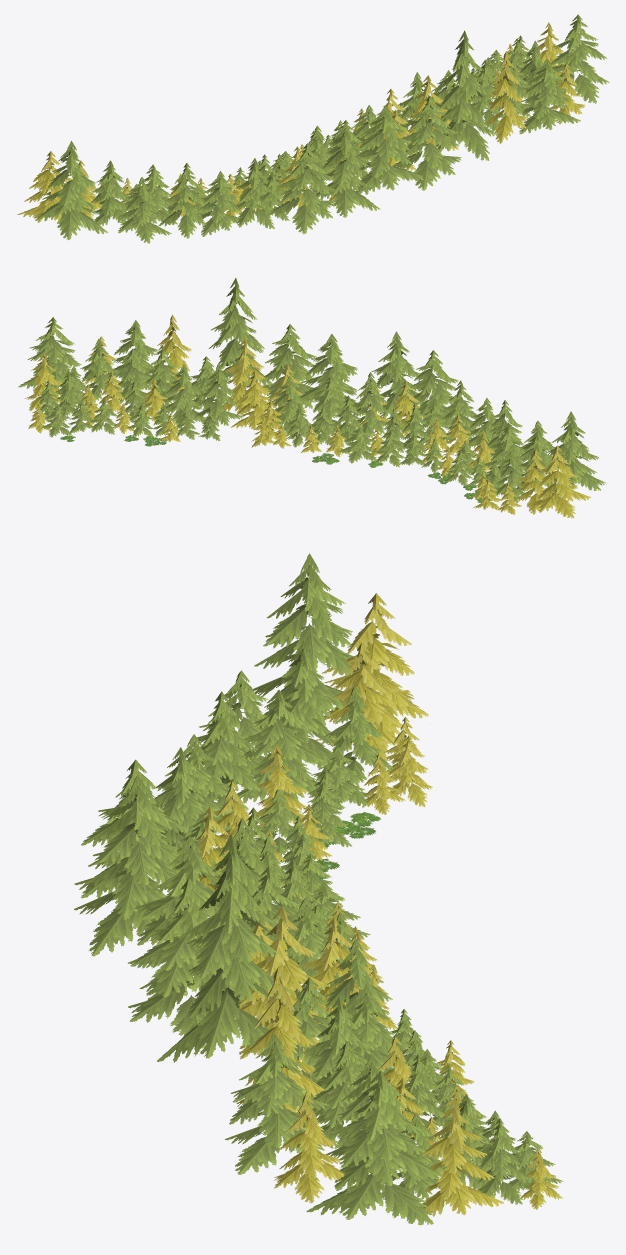
Rendered from area_03_33.fbx.
The picture shows the model from 3 angles, top to bottom: view 1: azimuth 30°, elevation 25°; view 2: azimuth 150°, elevation 25°; view 3: azimuth 270°, elevation 25°; orthographic projection. The views are drawn at different scales.
Visible parts, largest first — view 1: area_03_33; view 2: area_03_33; view 3: area_03_33.
Boxes of the visible parts, x1,y1,x2,y2 form: area_03_33: (17,14,609,243); area_03_33: (18,278,605,518); area_03_33: (74,553,563,1225).
Bounding box in the file's own units: 112 × 24.74 × 43.74.
